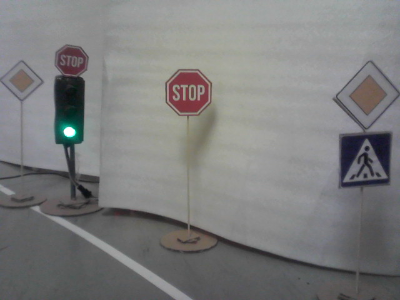crosswalk: (341, 134, 391, 186)
priority_road: (337, 62, 399, 128), (2, 61, 43, 101)
stop: (165, 70, 210, 114), (55, 45, 88, 77)
trafficlight_green: (56, 81, 83, 144)
